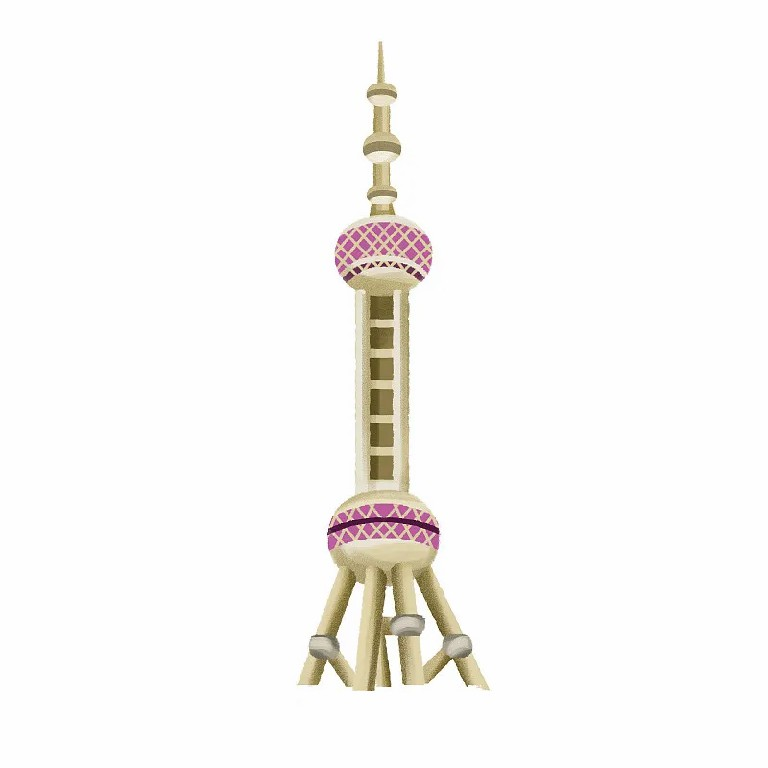Oriental: (296, 41, 487, 687)
